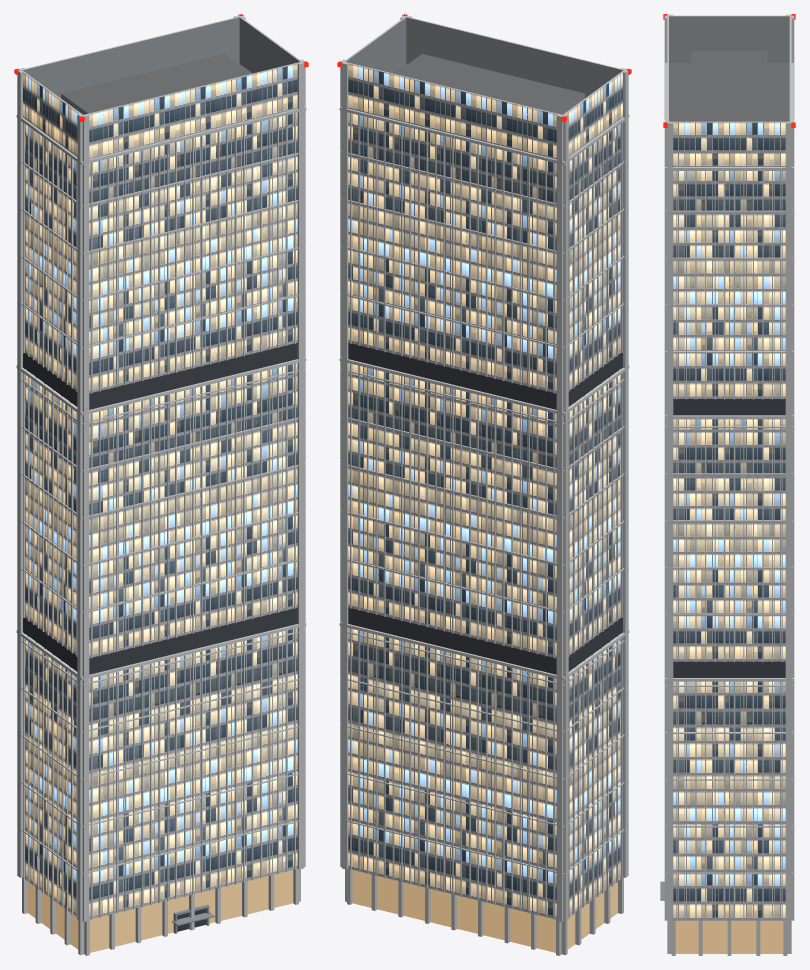
Rendered from world_trade_center_hamamatsucho.glb.
3 renders of one model, left to right at view 1: azimuth 30°, elevation 25°; view 2: azimuth 150°, elevation 25°; view 3: azimuth 270°, elevation 25°, orthographic.
Visible parts, largest first — view 1: world_trade_center_hamamatsucho; view 2: world_trade_center_hamamatsucho; view 3: world_trade_center_hamamatsucho.
Boxes of the visible parts, bbox=[...] form: world_trade_center_hamamatsucho: bbox=[14, 14, 308, 955]; world_trade_center_hamamatsucho: bbox=[337, 14, 631, 955]; world_trade_center_hamamatsucho: bbox=[660, 14, 795, 955].
Bounding box in the file's own units: 66.5 × 235 × 34.5.
2 materials, 2 textured.
